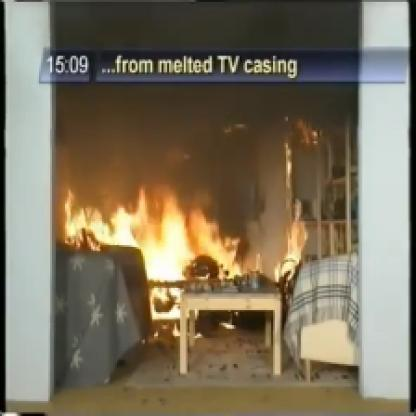fire: (64, 185, 247, 306), (248, 198, 322, 282)
